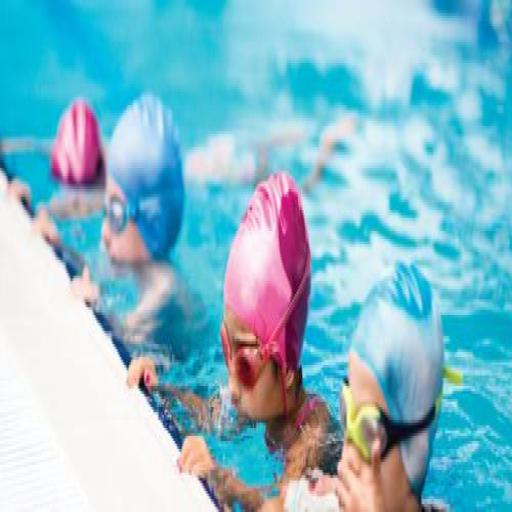swimming: (126, 168, 340, 509), (176, 255, 455, 509)
